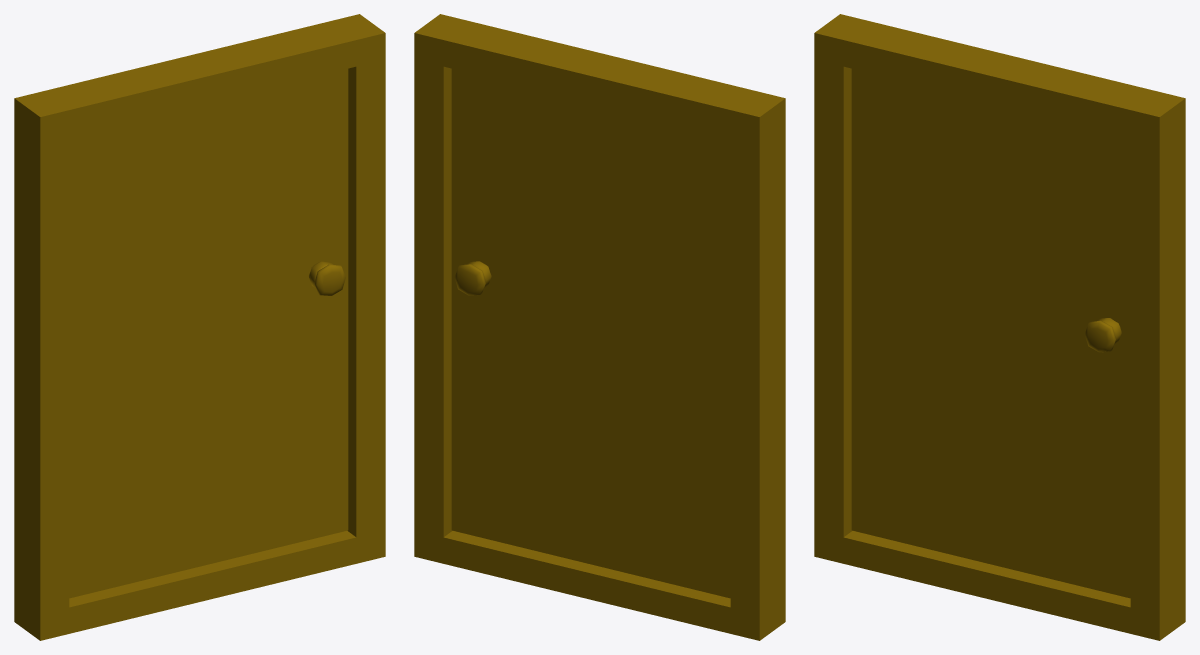
Rendered from Door_2.fbx.
3 renders of one model, left to right at view 1: azimuth 30°, elevation 25°; view 2: azimuth 150°, elevation 25°; view 3: azimuth 330°, elevation 25°, orthographic.
Parts seen in each view (by area): view 1: pCube4, pCube2; view 2: pCube4, pCube2; view 3: pCube4, pCube2.
Boxes of the visible parts, bbox=[...] form: pCube4: bbox=[69, 68, 348, 598]; pCube2: bbox=[14, 14, 385, 640]; pCube4: bbox=[451, 68, 730, 598]; pCube2: bbox=[414, 14, 785, 640]; pCube4: bbox=[851, 68, 1130, 598]; pCube2: bbox=[814, 14, 1185, 640].
Size of the model in its own units: 105 by 153 by 18.63.
